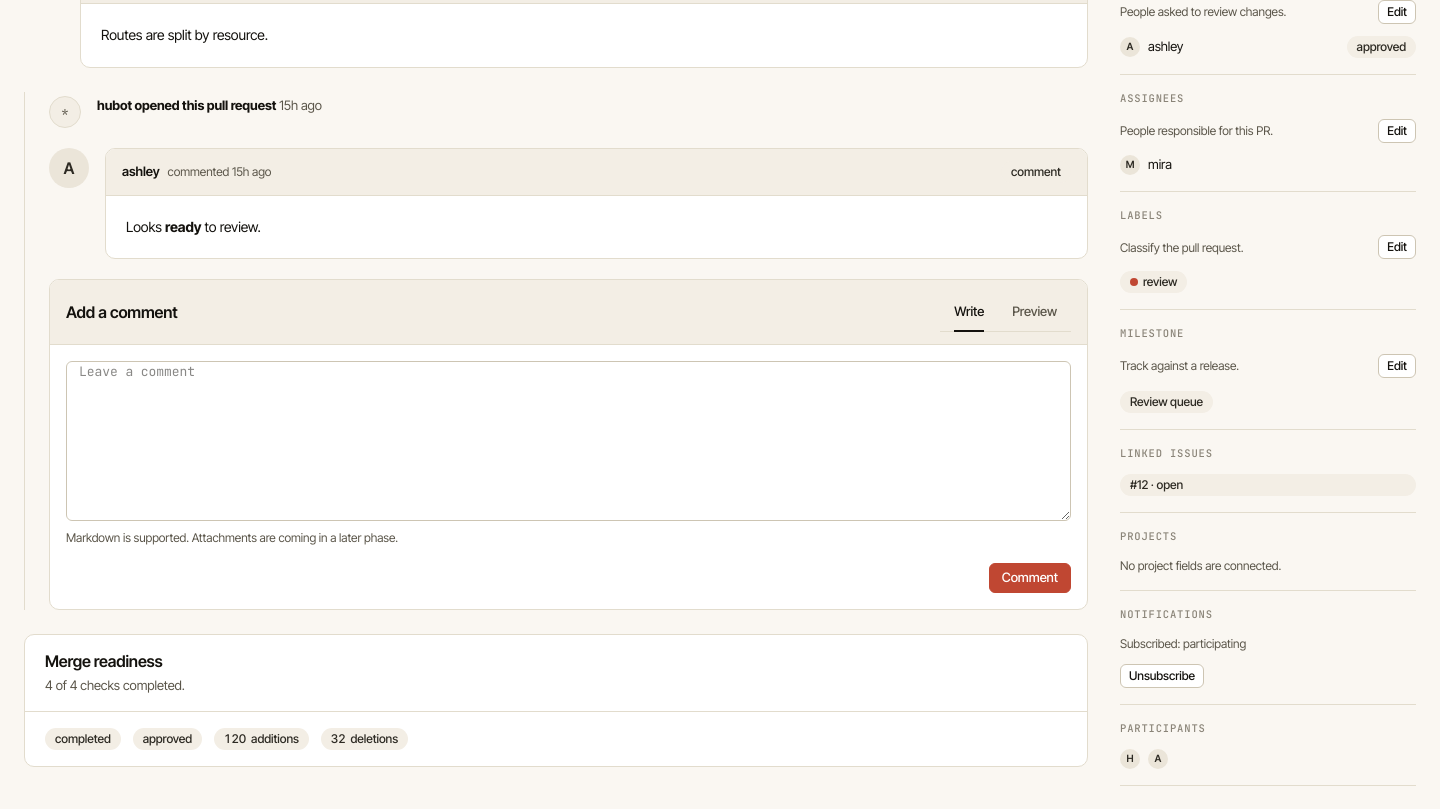
Test: RepositoryPullRequestDetailPage › previews markdown and posts pull request comments
(page scrolled)
Type "New **review** note" into the text box named "Comment body" at {"x": 568, "y": 441}, box [66,361,1071,521]
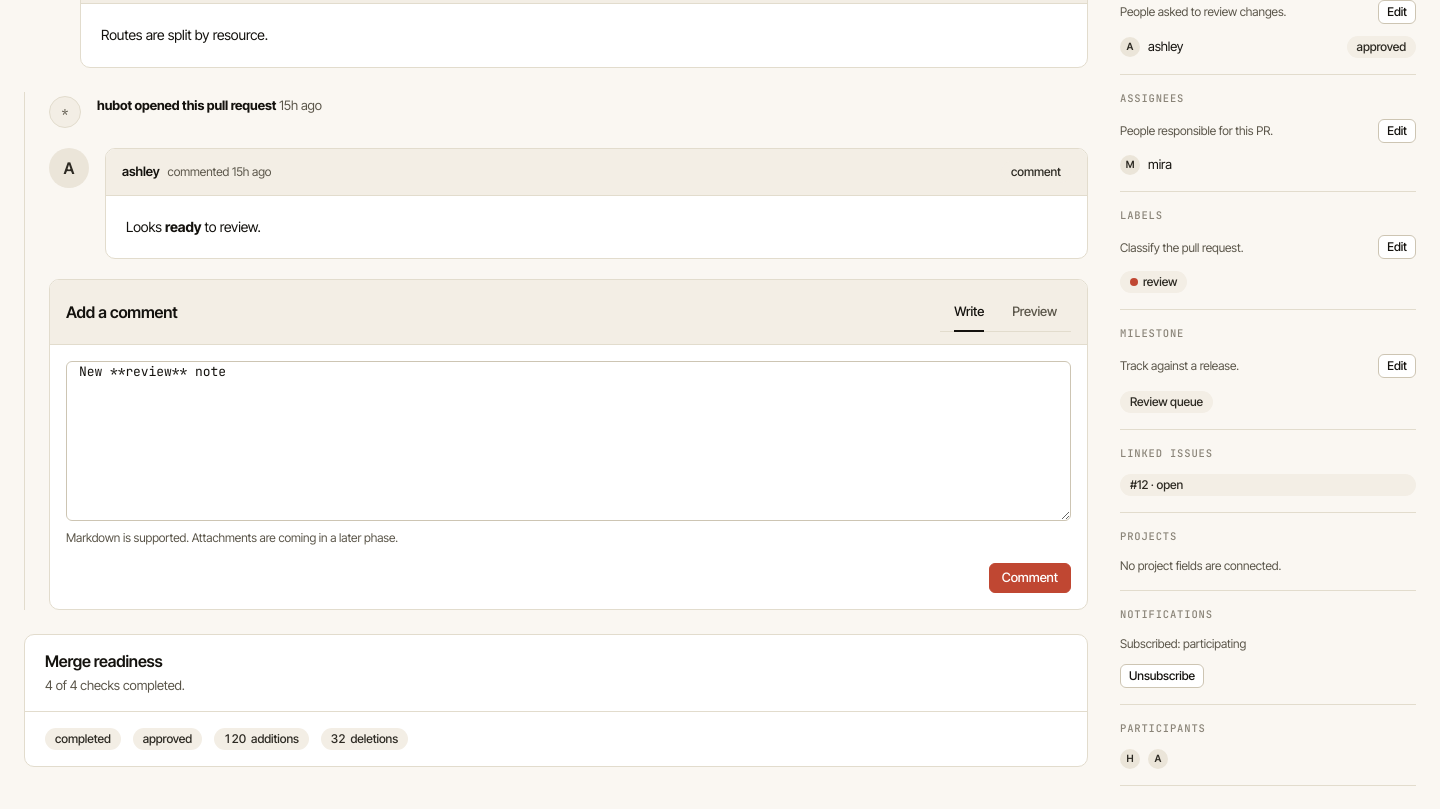
Click the tab "Preview" at {"x": 1035, "y": 312}, box [998,292,1071,331]
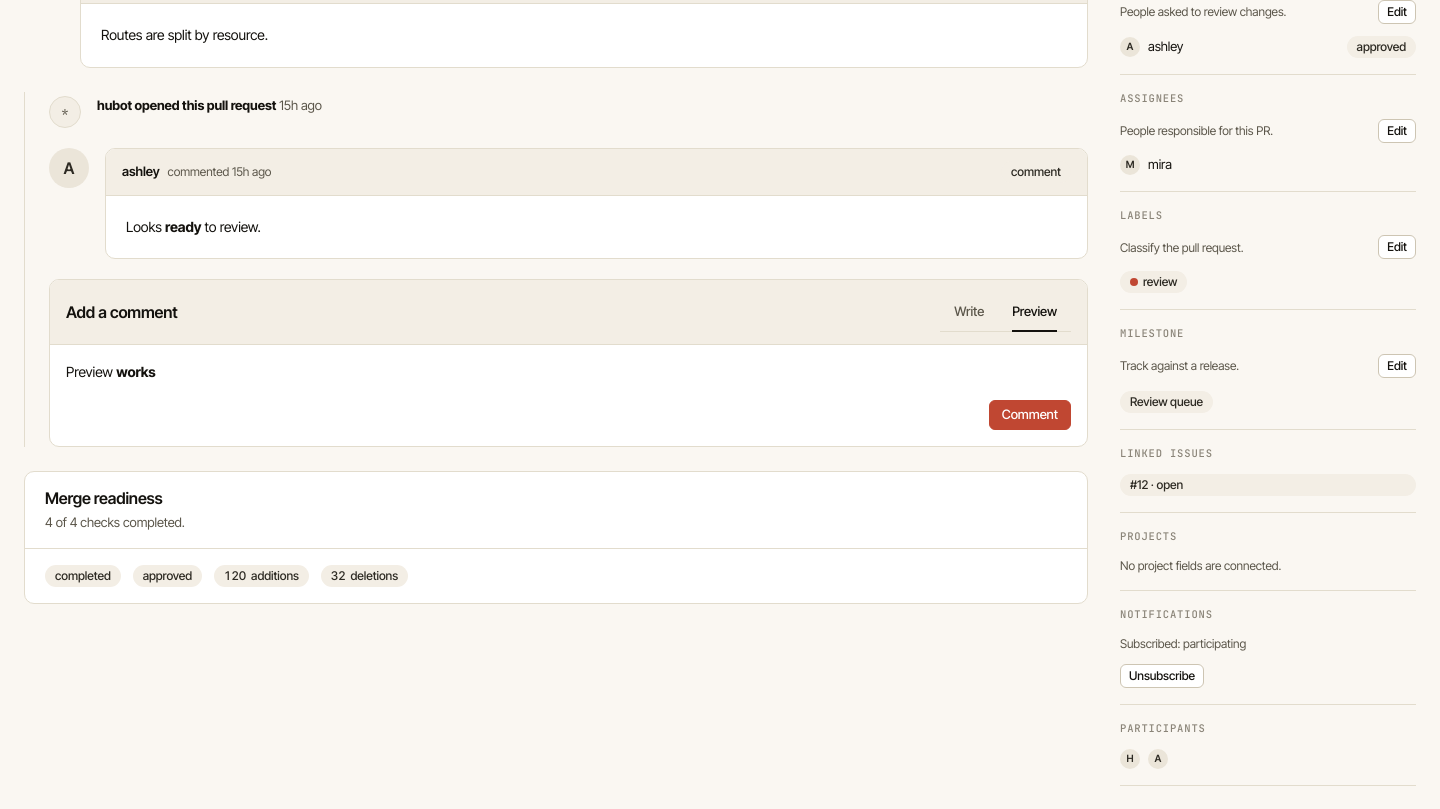
Check: the text "works" is shown, box [116,363,156,380]
Click the tab "Write" at {"x": 969, "y": 312}, box [940,292,998,331]
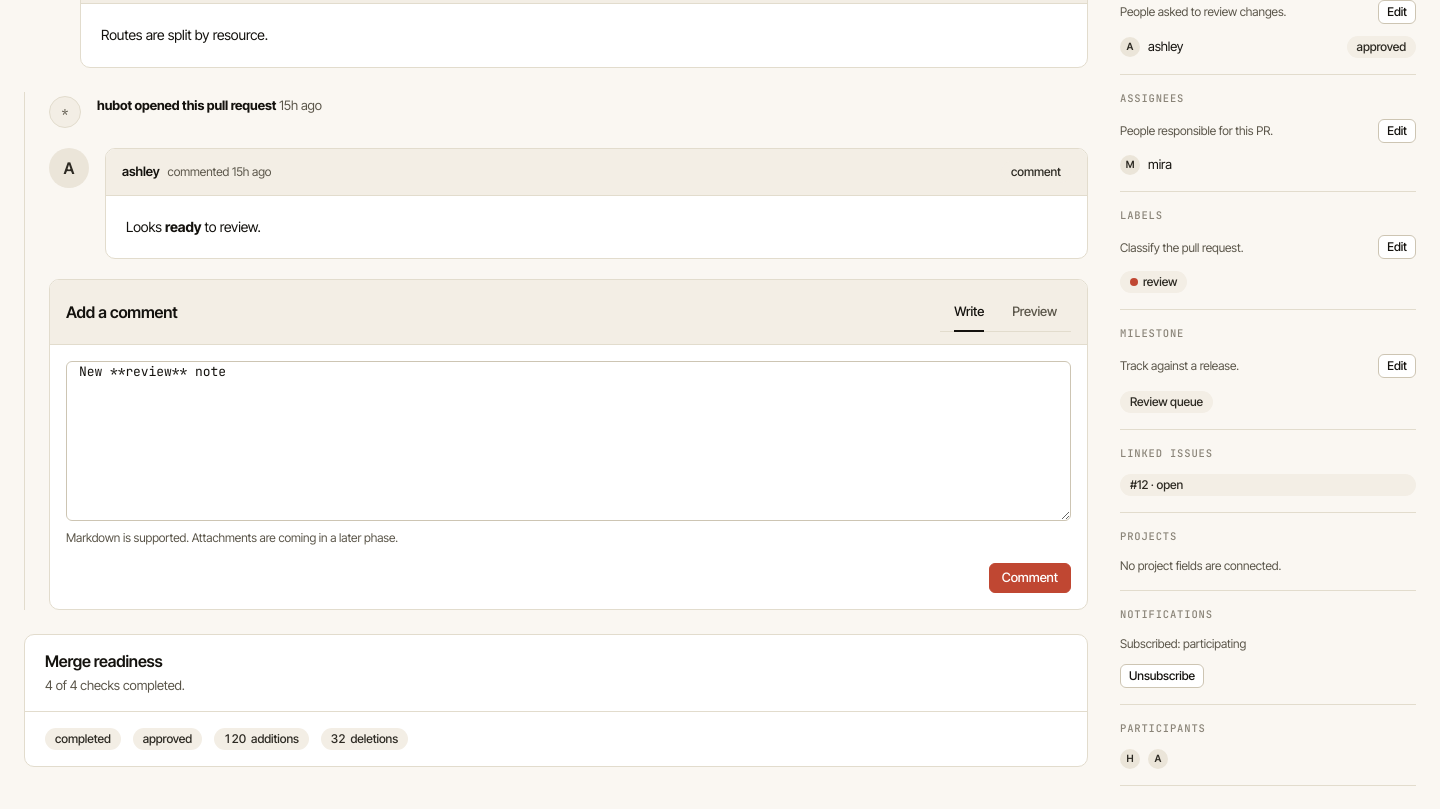
Click the button "Comment" at {"x": 1030, "y": 578}, box [989,563,1071,593]
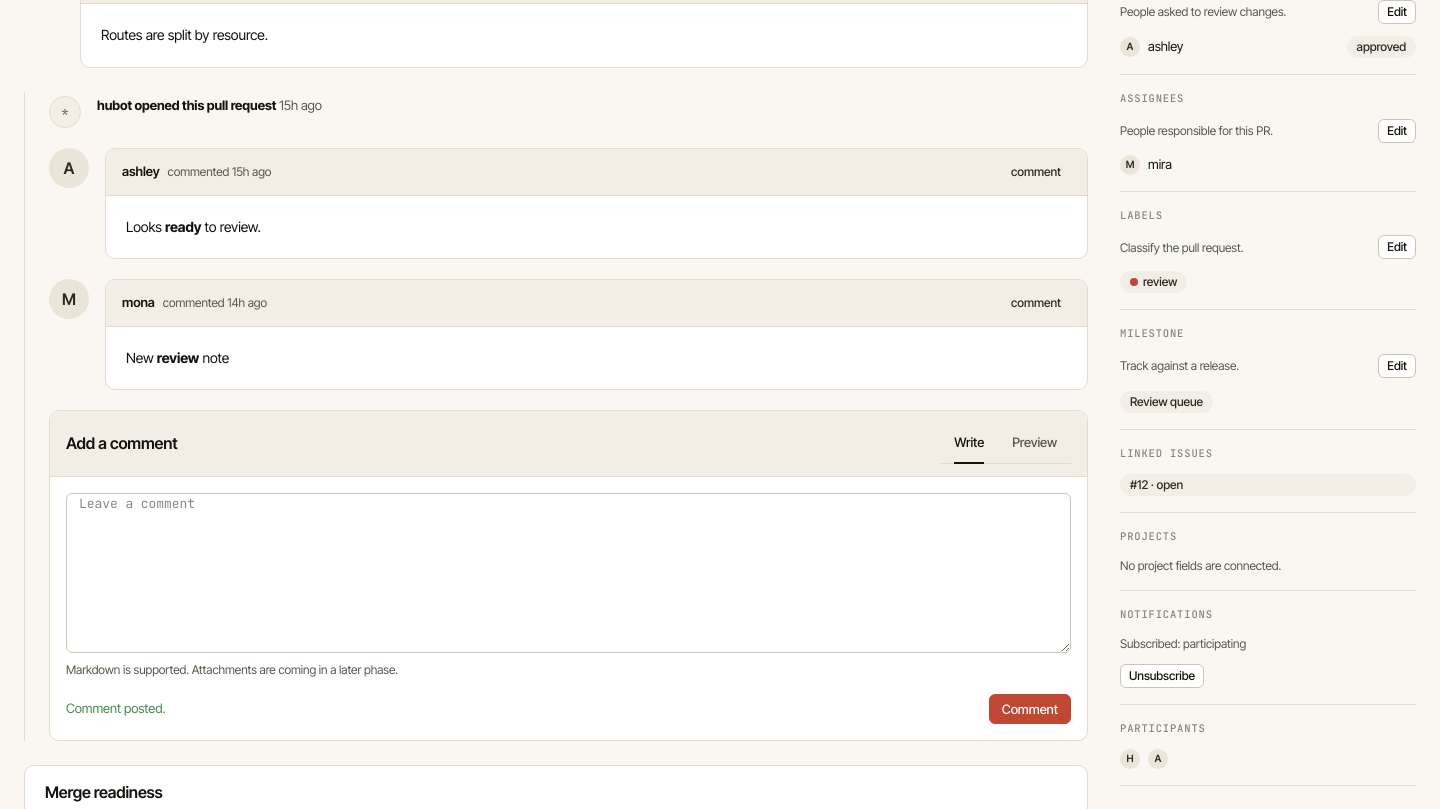
Check: the text "Comment posted." is shown, box [66,700,166,719]
